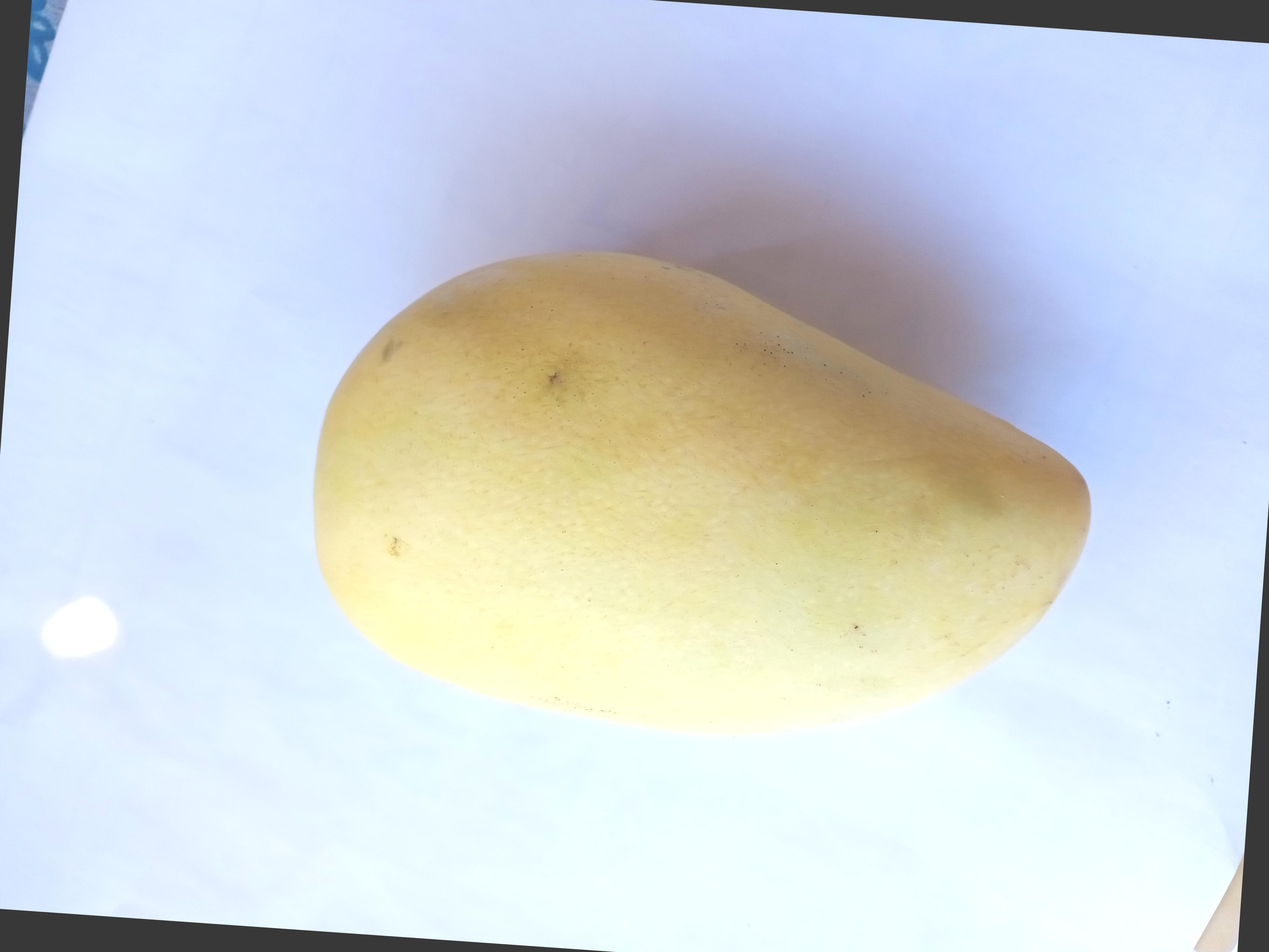Mango Ripe: (275, 130, 1201, 749)
